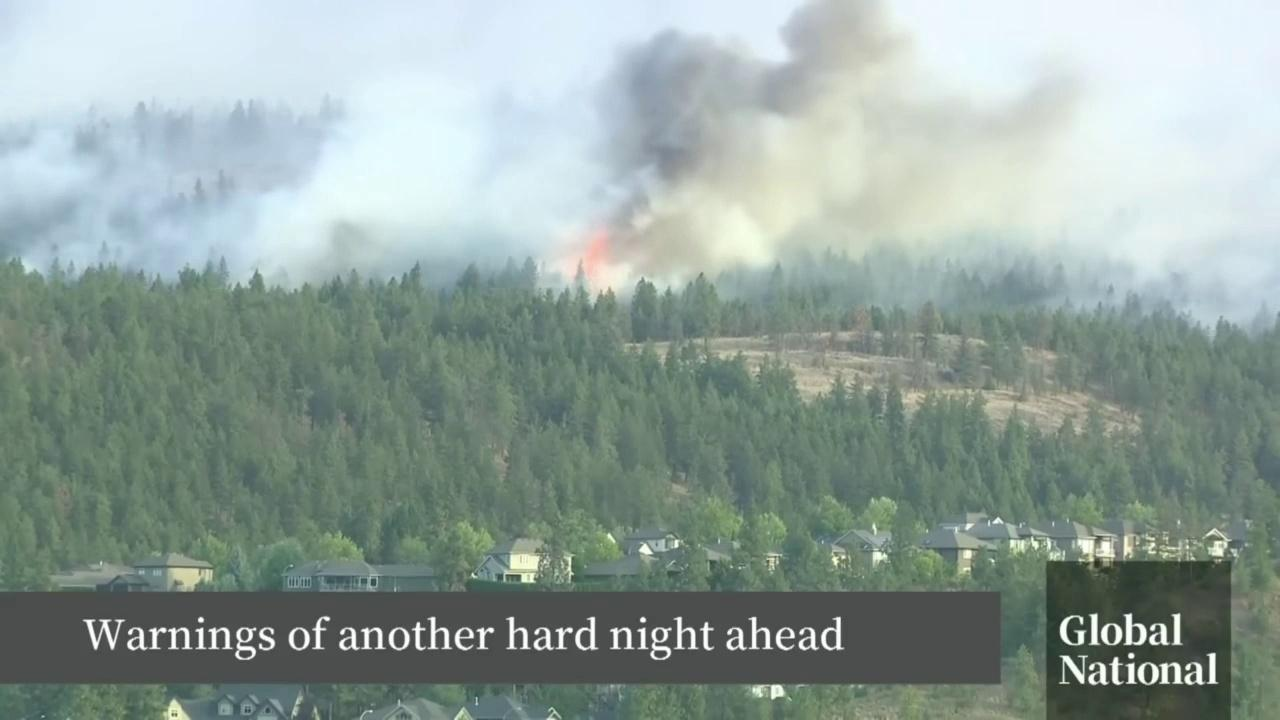fire: (578, 217, 616, 297)
smoke: (0, 0, 1280, 335)
